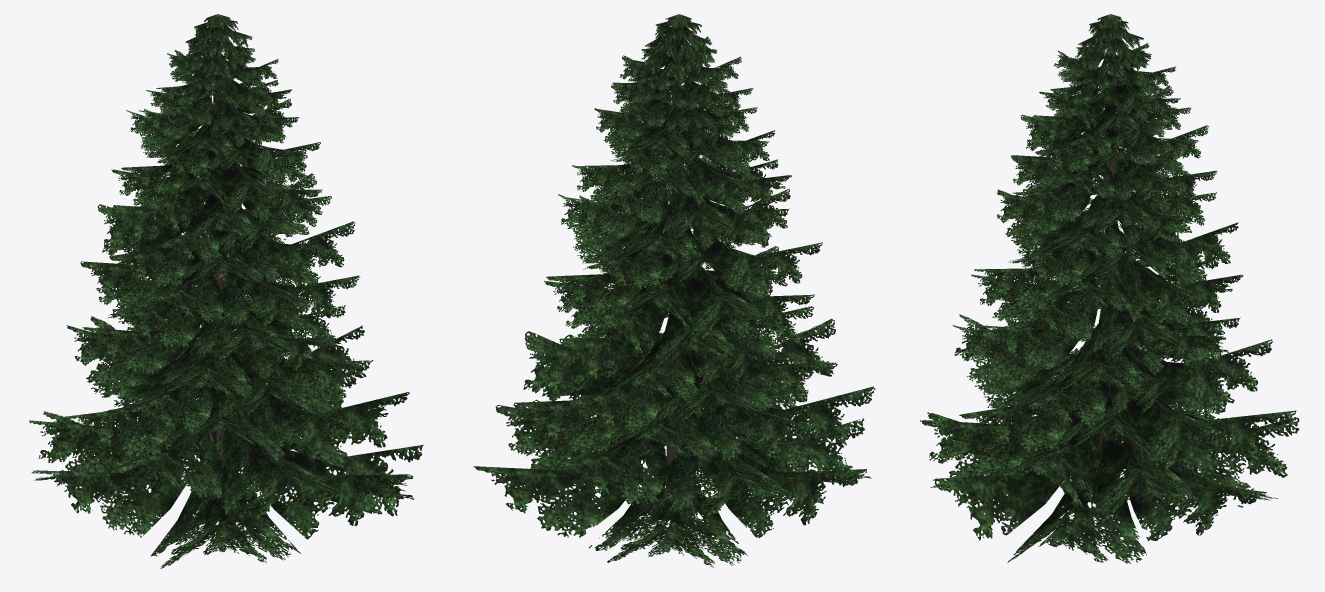
File: pine_v4.glb
The picture shows the model from 3 angles, left to right: view 1: azimuth 30°, elevation 25°; view 2: azimuth 150°, elevation 25°; view 3: azimuth 270°, elevation 25°; orthographic projection.
Visible parts, largest first — view 1: pine; view 2: pine; view 3: pine.
Boxes of the visible parts, x1=… form: pine: x1=29, y1=14, x2=423, y2=568; pine: x1=473, y1=14, x2=875, y2=567; pine: x1=920, y1=14, x2=1299, y2=563.
Bounding box in the file's own units: 4.68 × 5.94 × 4.35.
1 material, 1 textured.
